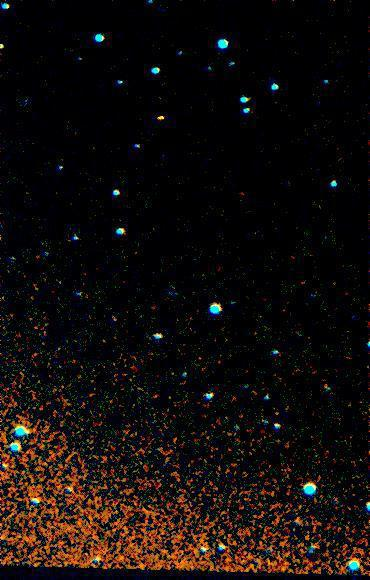star: (139, 99, 169, 129)
